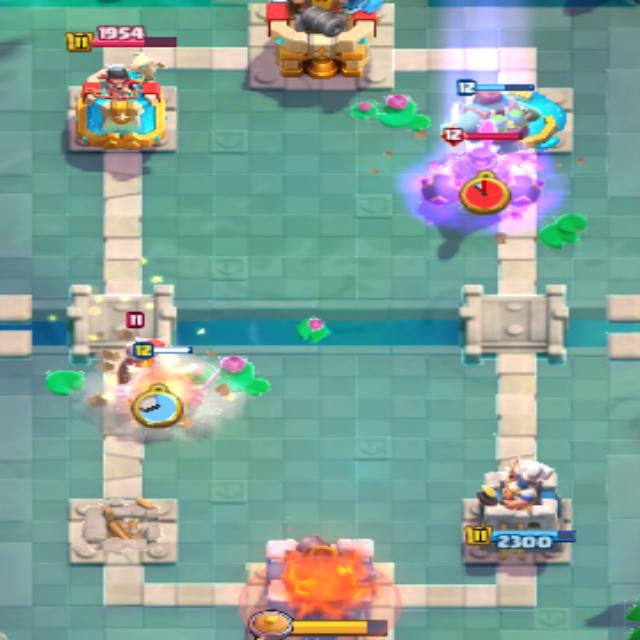EEVMegaKnight: (418, 140, 544, 223)
EKingTower: (266, 0, 382, 79)
EnemyPrincessTower: (76, 53, 164, 148)
OGoblinGiant: (441, 81, 546, 144)
OwnKingTower: (265, 535, 386, 639)
OwnPanTower: (465, 459, 561, 550)
TowerDown: (69, 499, 176, 564)
